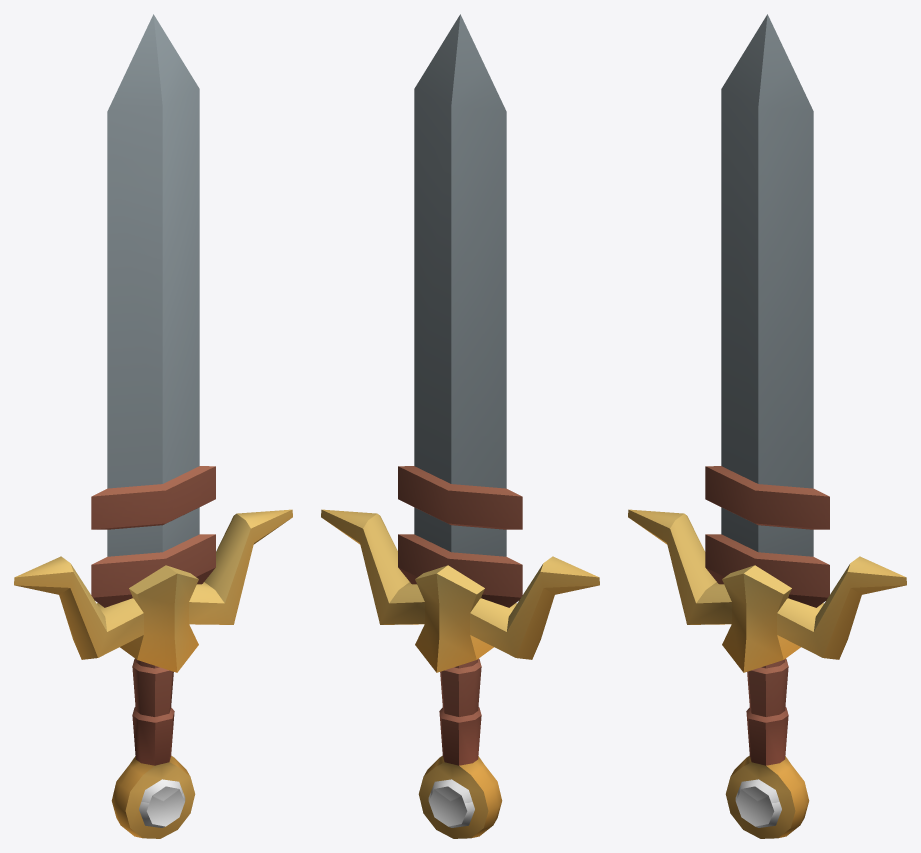
Rendered from espadon.glb.
3 renders of one model, left to right at view 1: azimuth 30°, elevation 25°; view 2: azimuth 150°, elevation 25°; view 3: azimuth 330°, elevation 25°, orthographic.
Visible parts, largest first — view 1: sword_2handed_color; view 2: sword_2handed_color; view 3: sword_2handed_color.
Part boxes in pixels (bbox=[...]): sword_2handed_color: bbox=[14, 14, 292, 838]; sword_2handed_color: bbox=[321, 14, 599, 838]; sword_2handed_color: bbox=[628, 14, 906, 838].
Bounding box in the file's own units: 0.839 × 2.37 × 0.248.
2 materials, 2 textured.
